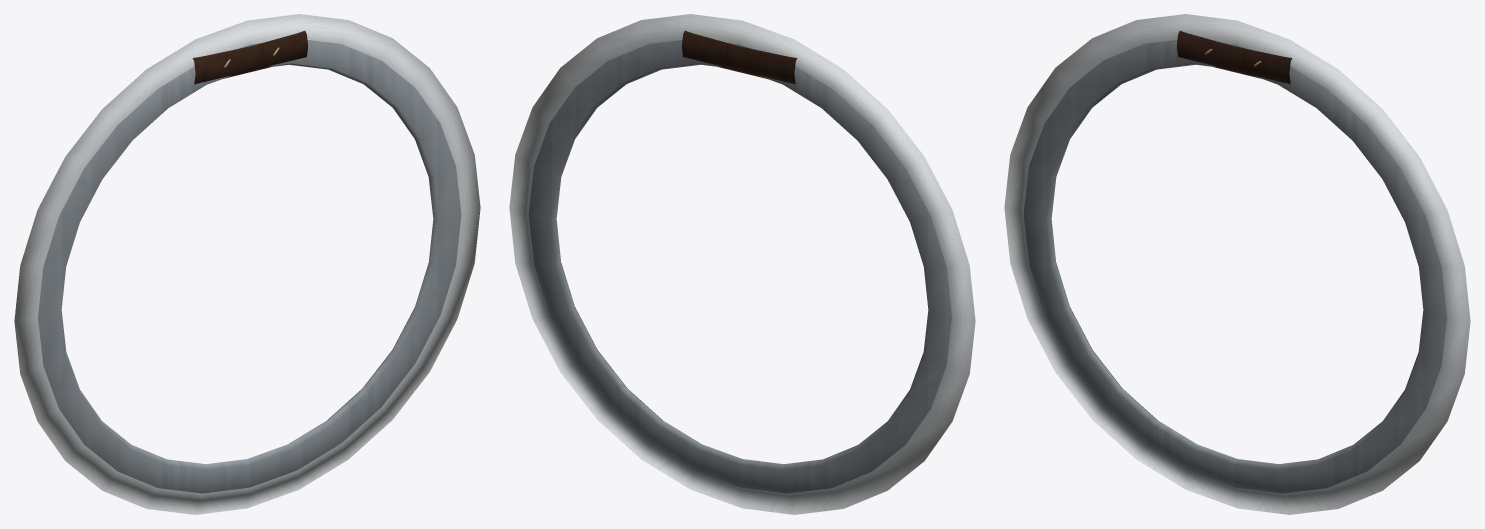
The model's file is chakram.lod2.glb.
3 renders of one model, left to right at view 1: azimuth 30°, elevation 25°; view 2: azimuth 150°, elevation 25°; view 3: azimuth 330°, elevation 25°, orthographic.
Parts seen in each view (by area): view 1: steel / forged blade steel, edge / honed bright bevel, leather / oiled leather wrap; view 2: steel / forged blade steel, edge / honed bright bevel, leather / oiled leather wrap; view 3: steel / forged blade steel, edge / honed bright bevel, leather / oiled leather wrap.
Boxes of the visible parts, bbox=[...] form: steel / forged blade steel: bbox=[38, 40, 461, 493]; edge / honed bright bevel: bbox=[14, 14, 480, 514]; leather / oiled leather wrap: bbox=[192, 30, 307, 84]; steel / forged blade steel: bbox=[528, 40, 951, 493]; edge / honed bright bevel: bbox=[509, 14, 975, 514]; leather / oiled leather wrap: bbox=[682, 30, 797, 84]; steel / forged blade steel: bbox=[1023, 40, 1446, 493]; edge / honed bright bevel: bbox=[1004, 14, 1470, 514]; leather / oiled leather wrap: bbox=[1177, 30, 1292, 84].
Bounding box in the file's own units: 0.414 × 0.414 × 0.0144.
Materials: 4 (3 with a texture image).
